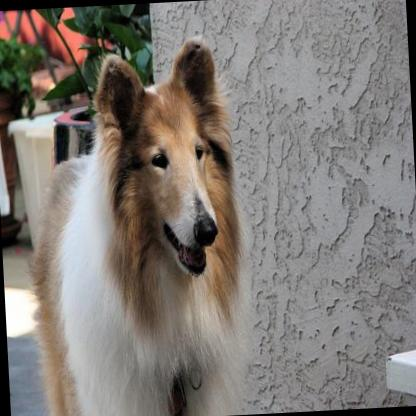collie: (15, 29, 259, 416)
